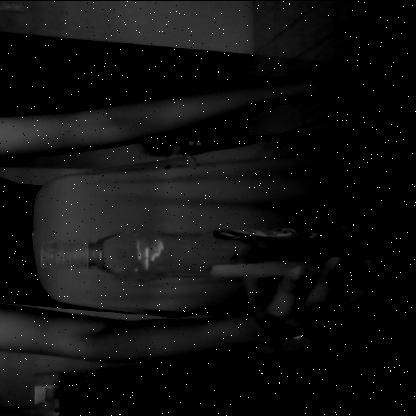Plastic Bottle: (36, 212, 413, 290)
